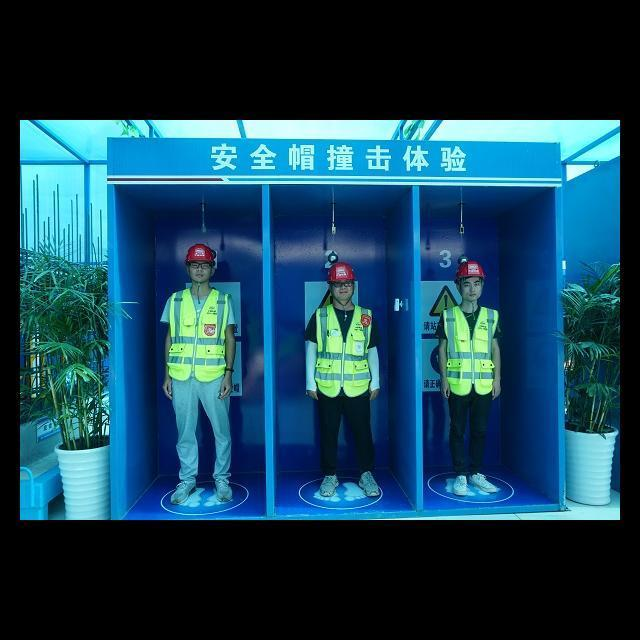Capacete: (455, 256, 485, 281), (185, 243, 215, 266), (327, 262, 355, 282)
Colete: (168, 288, 228, 381), (315, 305, 371, 396), (443, 306, 498, 395)
Pessoa: (161, 243, 235, 503), (305, 262, 379, 496), (436, 256, 500, 495)
